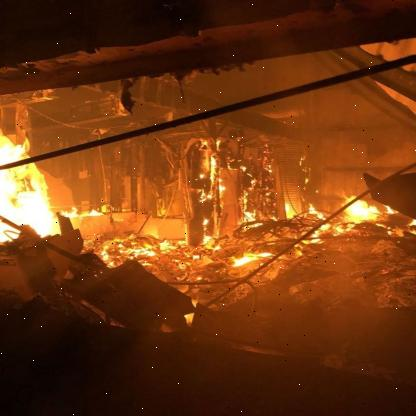fire: (3, 129, 64, 246), (324, 182, 406, 228), (220, 247, 270, 269)
